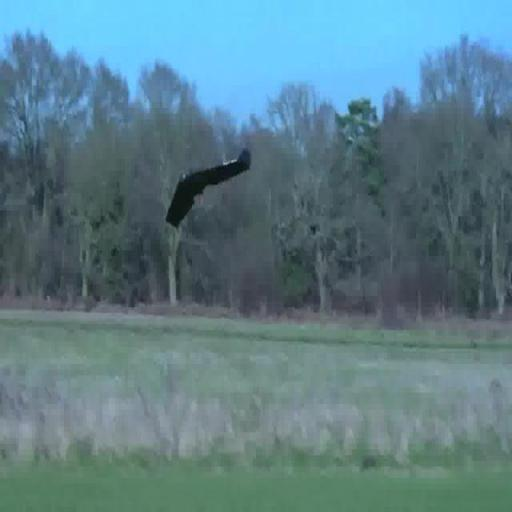uav: (163, 139, 255, 243)
